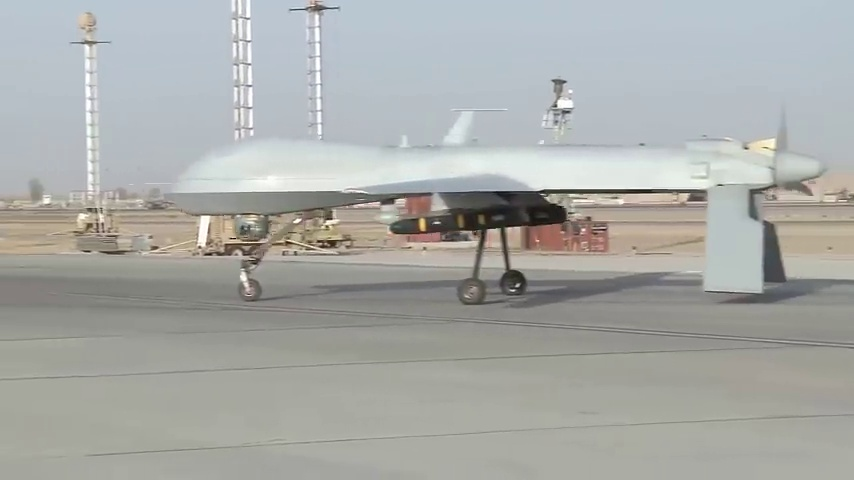military drone: (170, 108, 827, 305)
